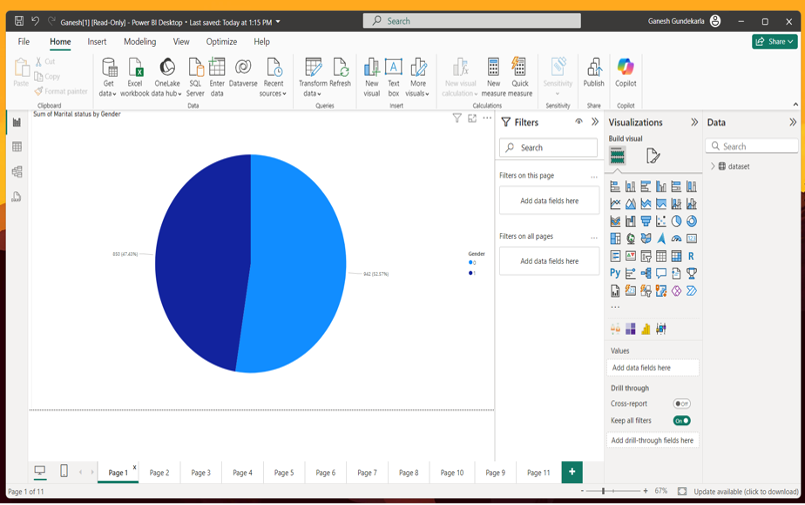

The page's visual inventory and layout, read from the dashboard file:
{"tool":"powerbi","page":{"name":"Page 1","canvas":[1280,720],"ordinal":0},"visuals":[{"type":"pieChart","fields":{"Category":["dataset.Gender"],"Y":["Sum(dataset.Marital status)"]},"box":[9.4,0,1269.9,720],"z":0}]}

Visuals, with their boxes on the page's 1280x720 design canvas (x1, y1, x2, y2). These are canvas units, not pixel positions in the 805x505 screenshot, which may show the page scaled, cropped or inside an application window:
pieChart - dataset.Gender x Sum(dataset.Marital status): bbox=(9, 0, 1279, 720)
